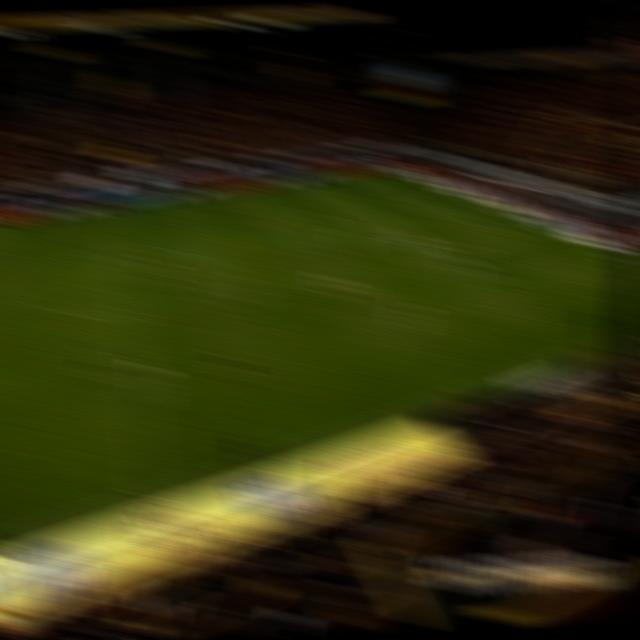bigarea_bottom_inner: (483, 274, 513, 288)
bigarea_bottom_outter: (591, 246, 623, 260)
bigarea_top_inner: (328, 187, 358, 203)
bigarea_top_outter: (409, 176, 439, 191)
bottom_arc_area_intersection: (415, 236, 445, 252)
corner: (372, 163, 403, 177)
halfcircle_bottom: (113, 301, 144, 319)
halfcircle_top: (108, 246, 139, 260)
midline_bottom_intersection: (131, 486, 166, 505)
midline_top_intersection: (103, 201, 135, 216)
smallarea_bottom_inner: (494, 227, 525, 242)
smallarea_bottom_outter: (524, 221, 555, 235)
smallarea_top_inner: (417, 195, 449, 210)
smallarea_top_outter: (445, 190, 477, 205)
top_arc_area_intersection: (361, 207, 392, 221)
